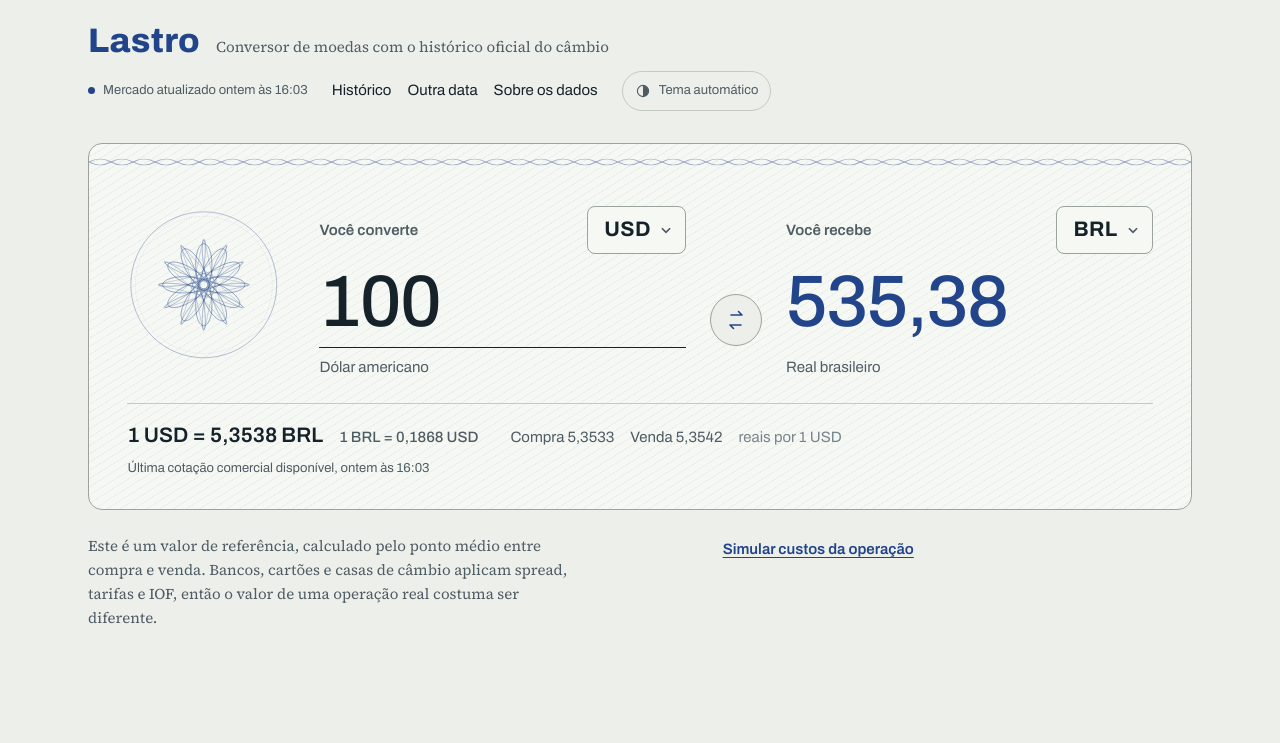
Test: conversão › explica a entrada inválida e não converte
Check: the text named "Você recebe" reads "535,38", box [786,262,1007,341]
Replace the text in the field labelled "Você converte" with "12,3,4": (503, 305) [319,262,686,348]
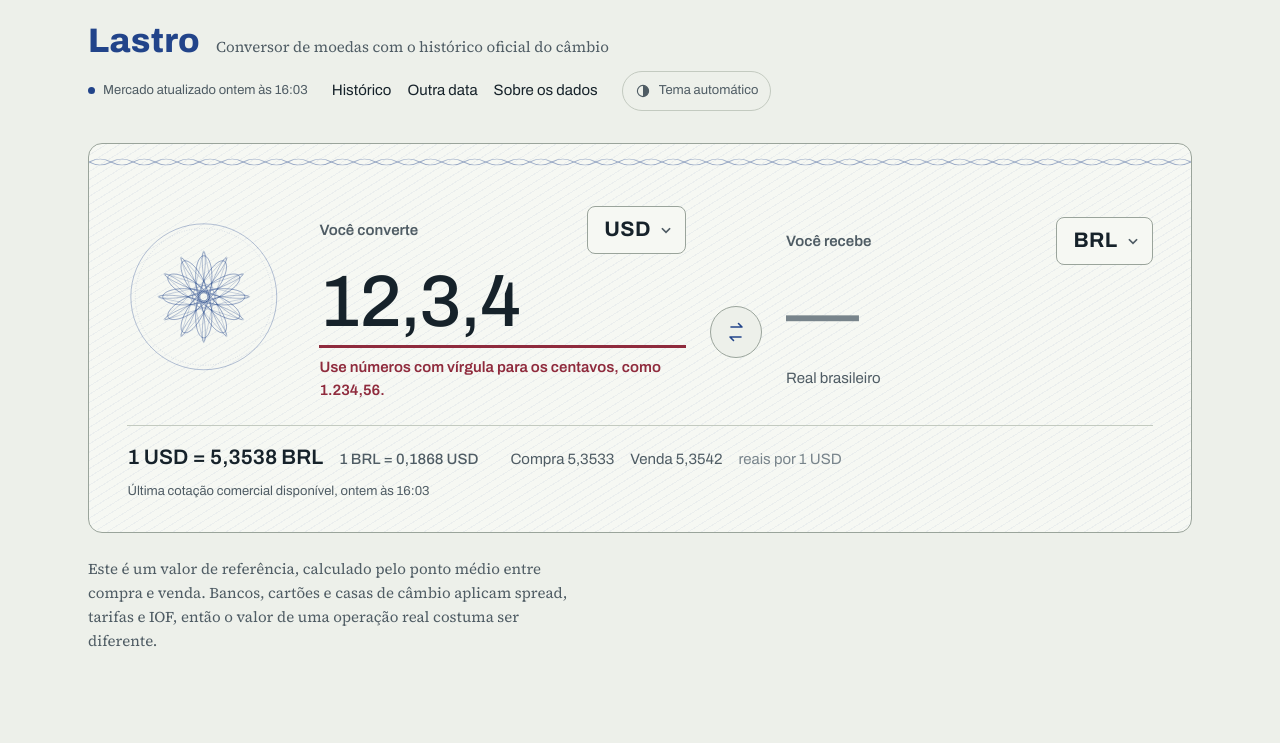
Check: the element named "Você recebe" reads "—", box [786,274,858,353]
Check: the text "Use números com vírgula para os centavos, como 1.234,56." is shown, box [319,356,686,401]
